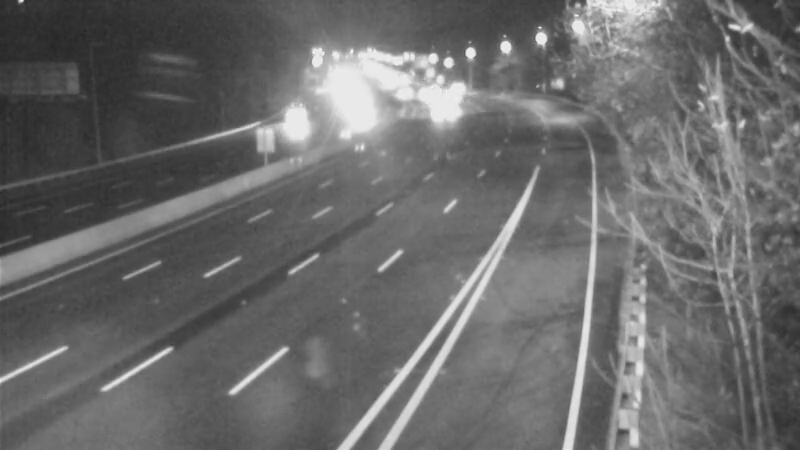vehicle: (377, 72, 427, 122), (410, 73, 460, 123), (418, 87, 468, 137), (264, 96, 314, 146)
